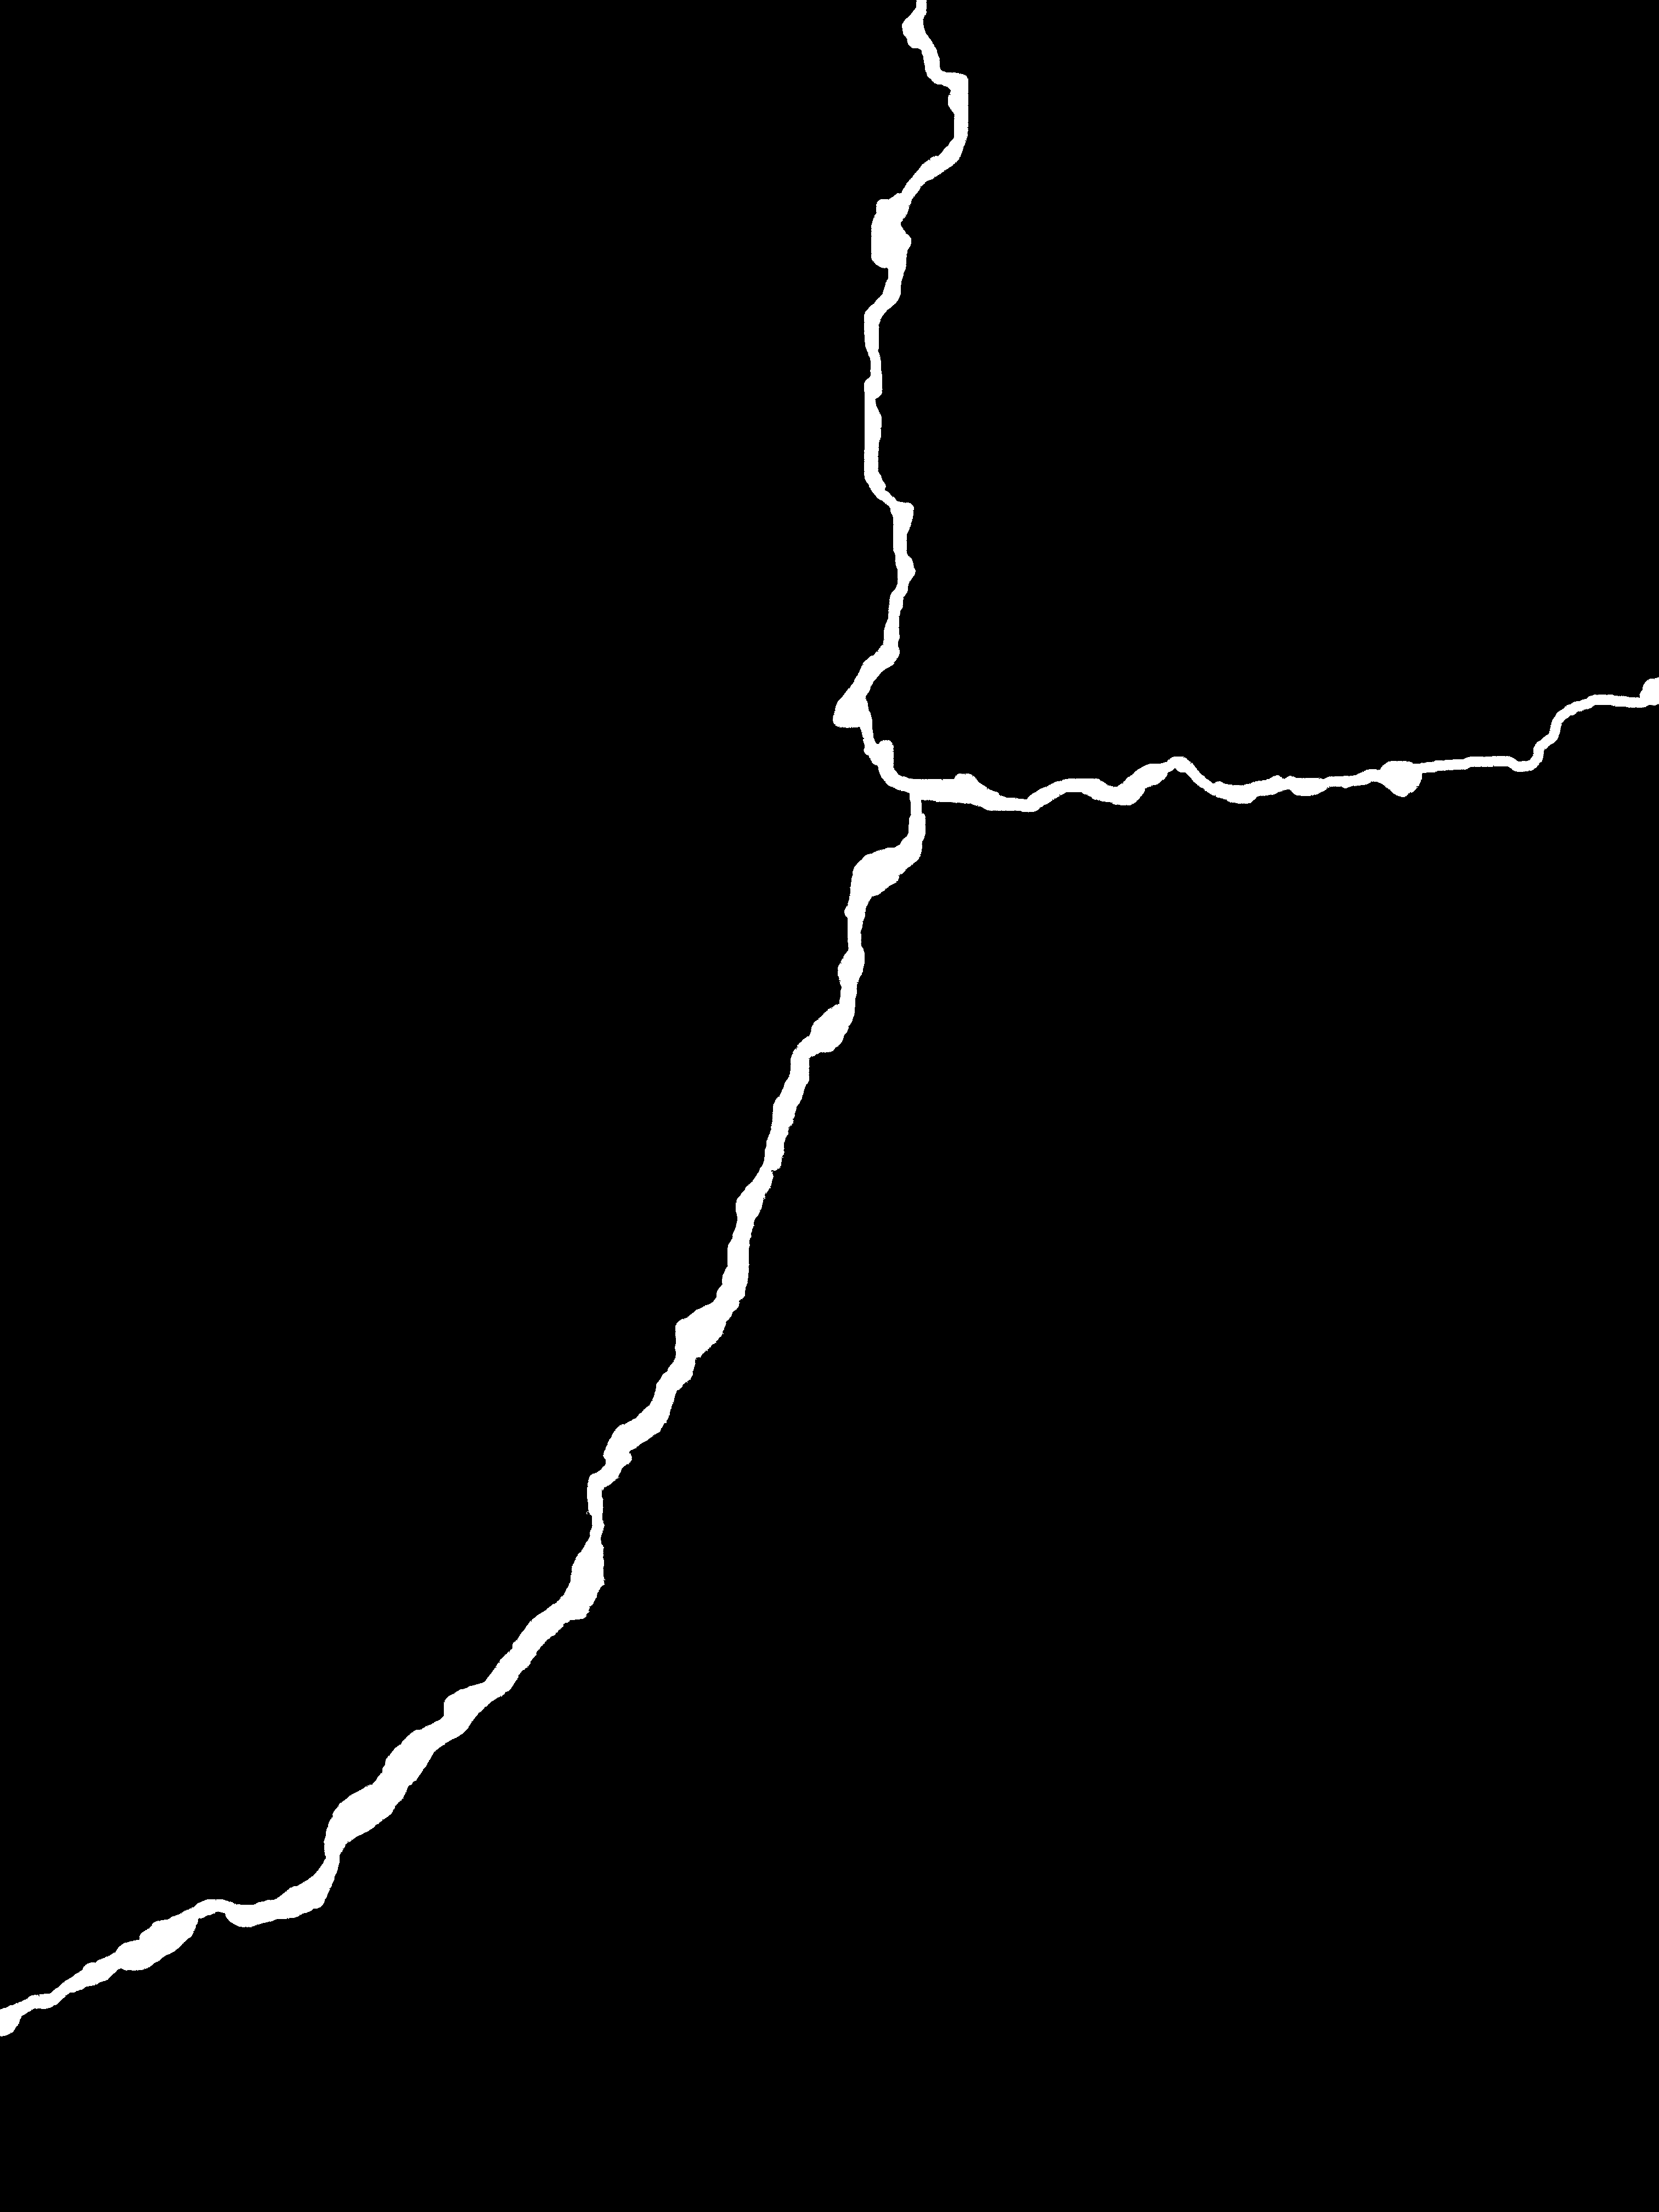Crack: (0, 0, 1659, 2052)
